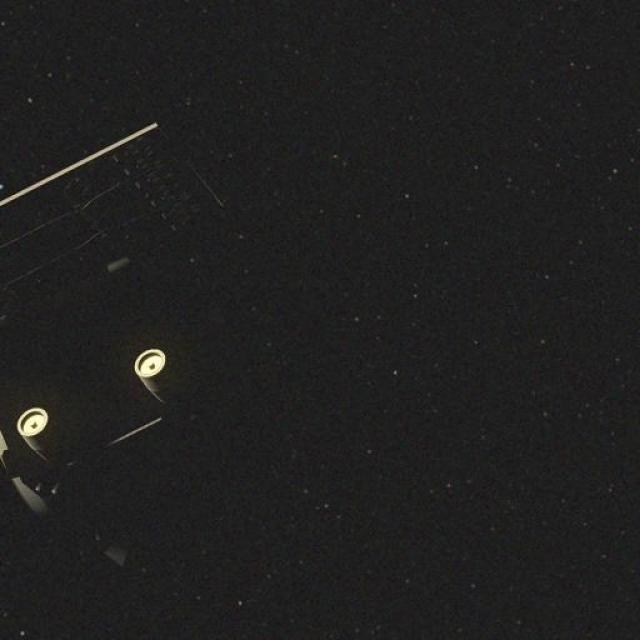proba_3_csc: (0, 83, 250, 573)
